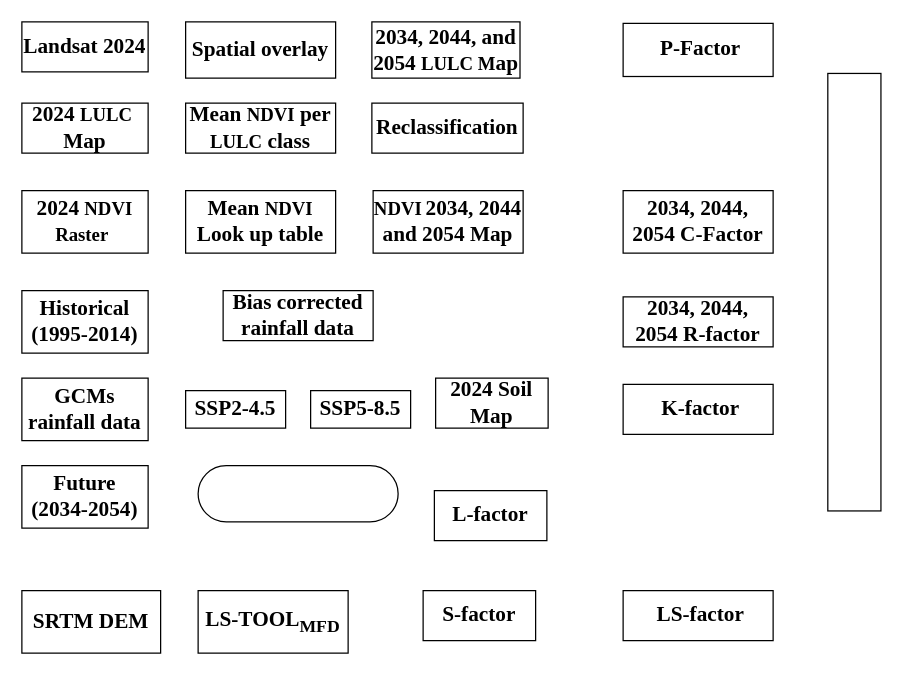
This 904x675 diagram has some shape labels left out. Each missing label, with the centre of its shape:
"Social economic pathways" belongs at [297,493].
"Soil erosion under SSP2-4.5 and SSP5-8.5 scenarios (3034, 2044, and 2054" belongs at [854,291].
